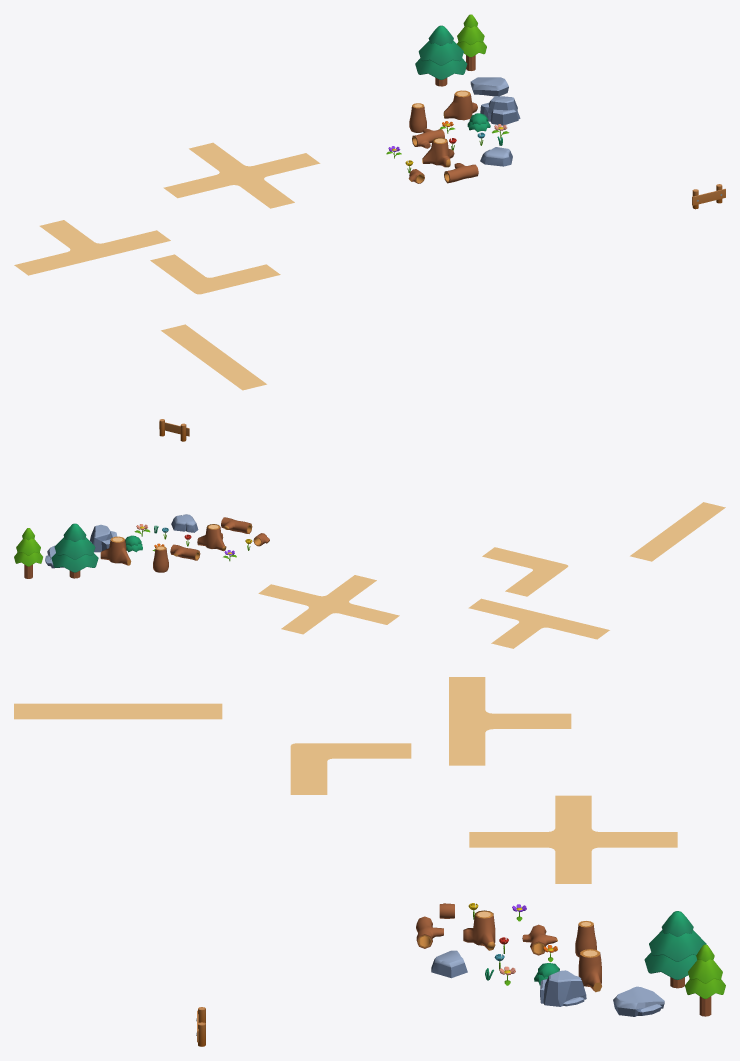
The model's file is Decor.fbx.
3 renders of one model, top to bottom at view 1: azimuth 30°, elevation 25°; view 2: azimuth 150°, elevation 25°; view 3: azimuth 270°, elevation 25°, orthographic. The views are drawn at different scales.
Visible parts, largest first — view 1: pPlane3, pPlane4, pPlane5, pPlane1, cay_3, cay_2, rock_1, go_2, rcok_3, go_3; view 2: pPlane3, pPlane4, pPlane1, pPlane5, cay_3, cay_2, go_2, go_3, rock_1, rock_2, fence; view 3: pPlane3, pPlane4, pPlane1, pPlane5, cay_3, cay_2, rock_1, rcok_3, go_3, go_2, rock_2, go_4.
Boxes of the visible parts, box(x1,y1,x2,y2) form: pPlane3: box(163, 142, 320, 208); pPlane4: box(14, 220, 170, 275); pPlane5: box(150, 254, 280, 294); pPlane1: box(161, 324, 266, 390); cay_3: box(415, 25, 467, 86); cay_2: box(457, 14, 486, 70); rock_1: box(480, 96, 520, 125); go_2: box(443, 90, 477, 120); rcok_3: box(470, 77, 508, 96); go_3: box(422, 137, 454, 167); pPlane3: box(258, 575, 399, 634); pPlane4: box(468, 598, 609, 648); pPlane1: box(630, 502, 725, 561); pPlane5: box(482, 547, 568, 596); cay_3: box(51, 523, 98, 578); cay_2: box(14, 528, 42, 578); go_2: box(100, 536, 131, 565); go_3: box(197, 524, 226, 551); rock_1: box(90, 524, 117, 552); rock_2: box(171, 514, 198, 532); fence: box(159, 419, 189, 441); pPlane3: box(469, 795, 677, 883); pPlane4: box(449, 677, 571, 765); pPlane1: box(14, 703, 222, 719); pPlane5: box(290, 743, 411, 794); cay_3: box(644, 911, 706, 988); cay_2: box(685, 944, 725, 1016); rock_1: box(540, 970, 586, 1006); rcok_3: box(613, 986, 664, 1016); go_3: box(463, 910, 495, 950); go_2: box(578, 949, 601, 992); rock_2: box(431, 950, 467, 978); go_4: box(522, 924, 557, 955).
Bounding box in the file's own units: 15387 × 1545 × 12487.
